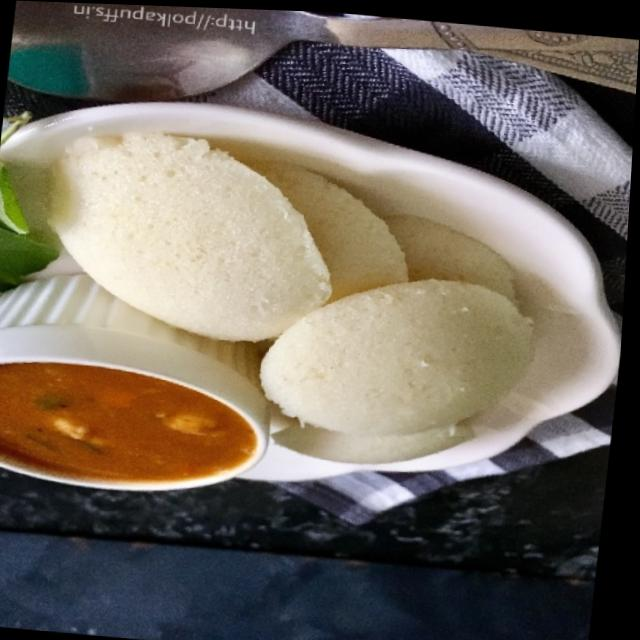IDLI: (53, 135, 534, 465)
SAMBAR: (0, 363, 256, 481)
